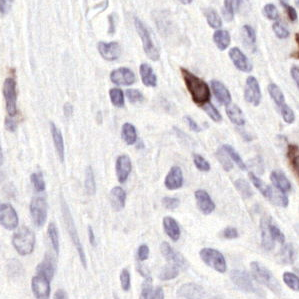Lymphocyte: (177, 63, 212, 105)
